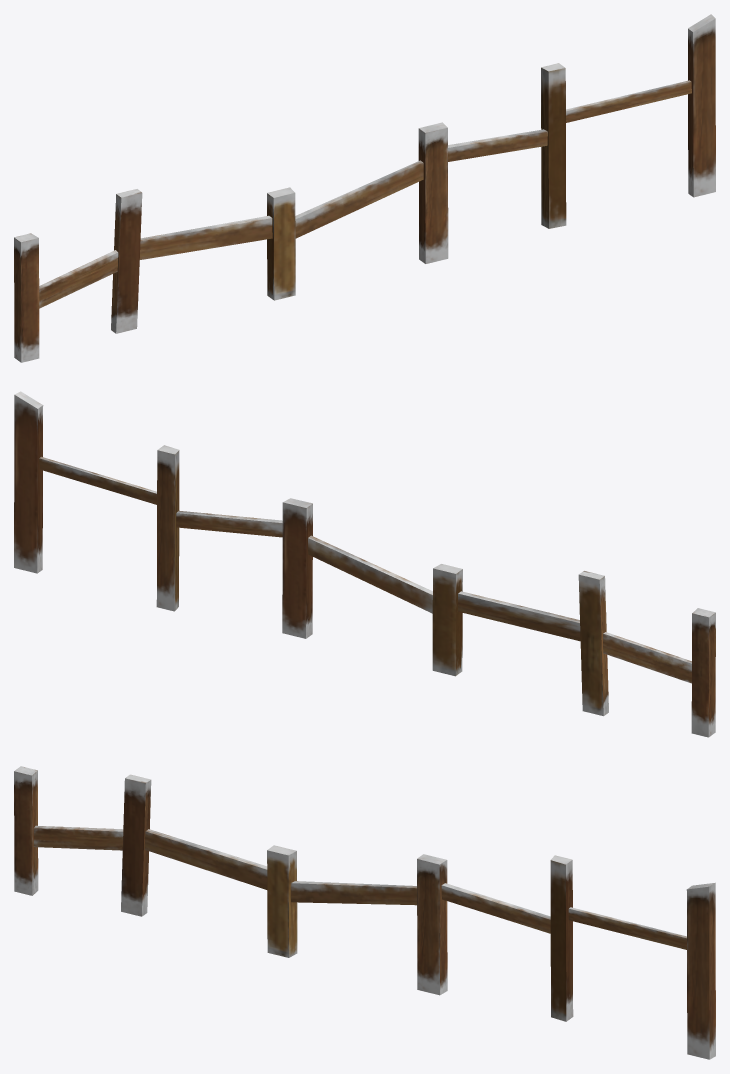
File: SV_AFT_snow_langan_0.FBX
3 views of the same model, one above another, from view 1: azimuth 30°, elevation 25°; view 2: azimuth 150°, elevation 25°; view 3: azimuth 330°, elevation 25° (orthographic).
Visible parts, largest first — view 1: SV_AFT_snow_langan_0; view 2: SV_AFT_snow_langan_0; view 3: SV_AFT_snow_langan_0.
Boxes of the visible parts, <box> form: SV_AFT_snow_langan_0: <box>14,14,715,362</box>; SV_AFT_snow_langan_0: <box>14,391,715,737</box>; SV_AFT_snow_langan_0: <box>14,766,715,1059</box>.
Size of the model in its own units: 6.03 by 1.44 by 0.1695.
